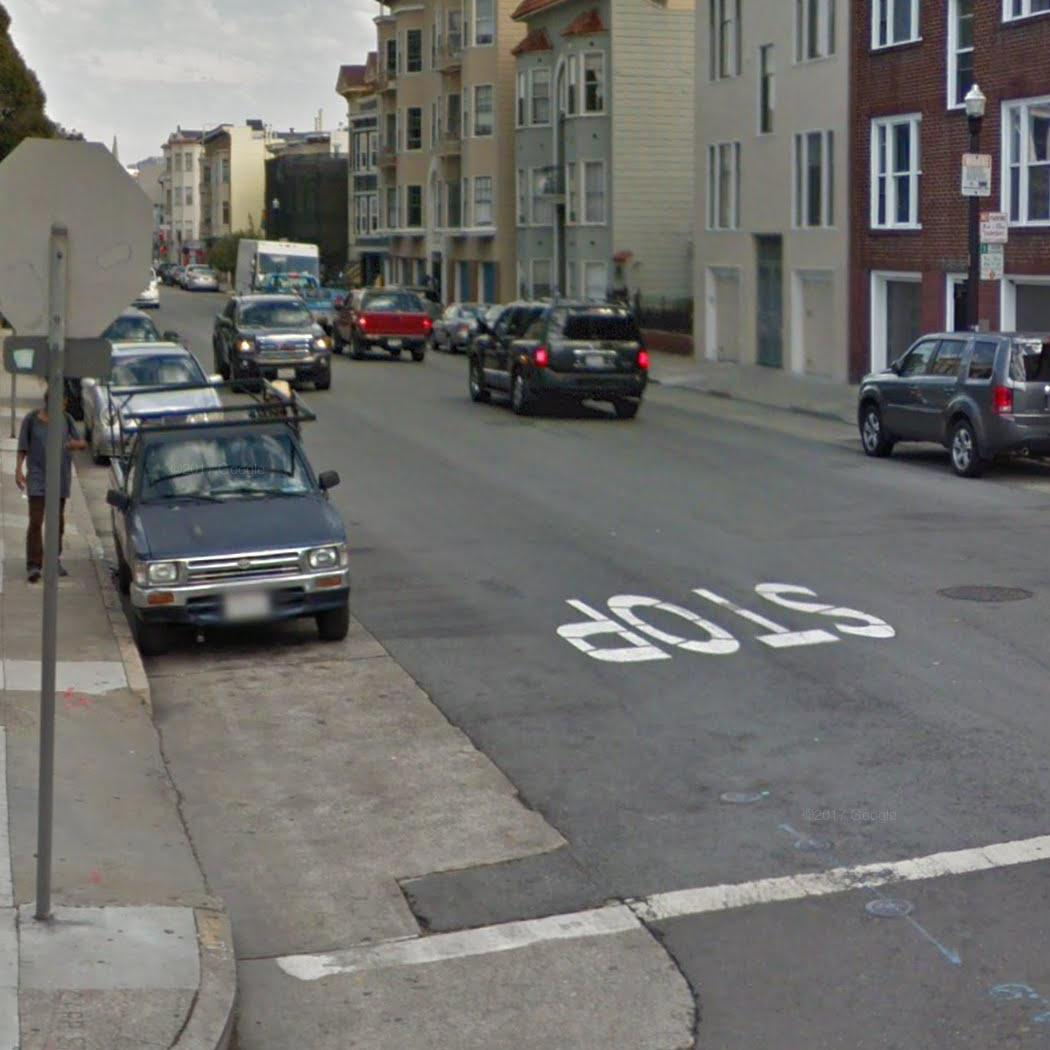1 Hour Parking: (978, 209, 1010, 245)
No Parking: (979, 244, 1005, 282)
